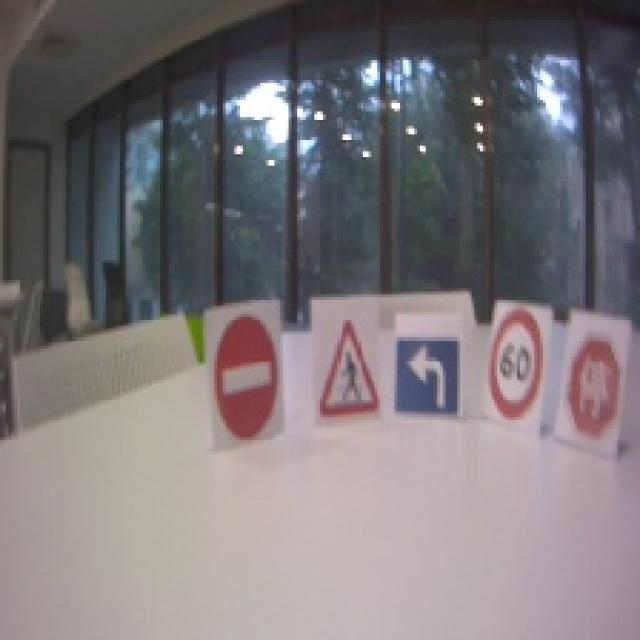DoNotEnterSign: (214, 316, 284, 440)
